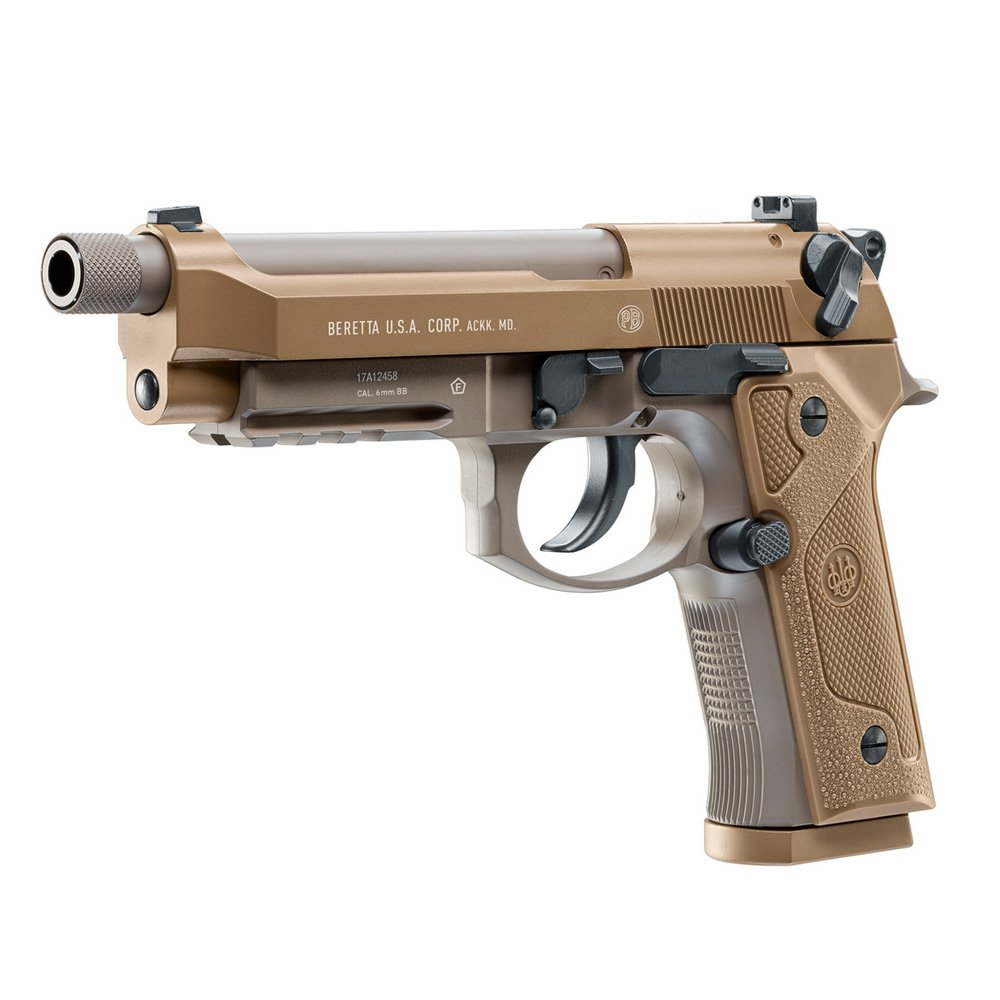Arma Falsa: (40, 193, 964, 867)
